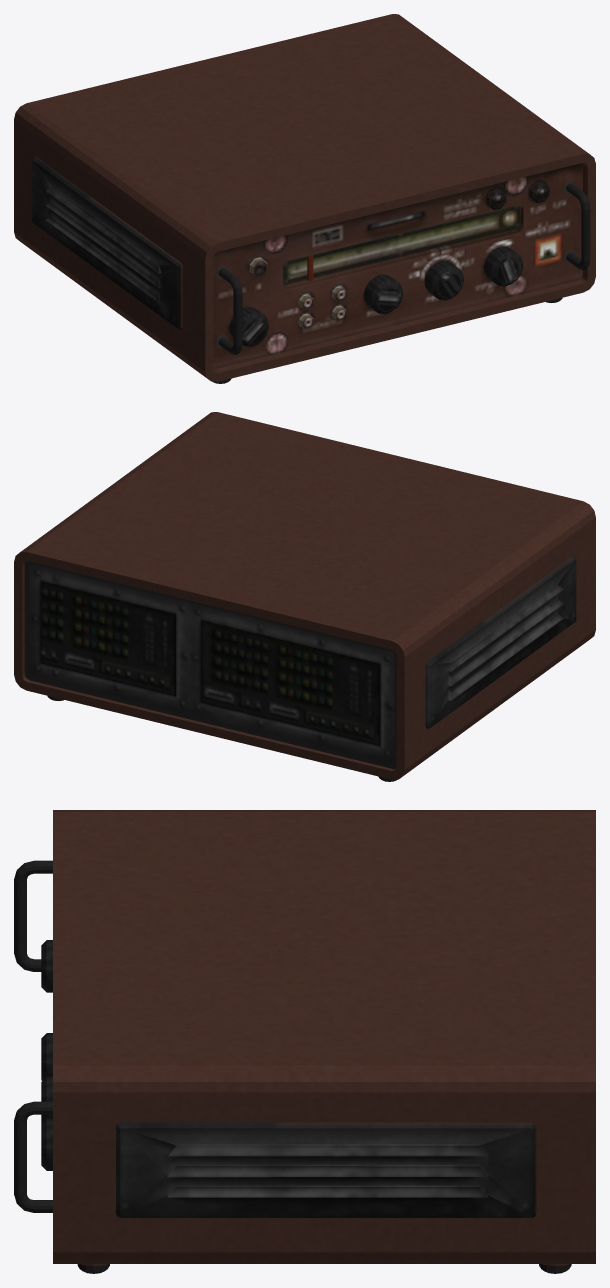
The model's file is military_radio_1.obj.
The picture shows the model from 3 angles, top to bottom: view 1: azimuth 30°, elevation 25°; view 2: azimuth 150°, elevation 25°; view 3: azimuth 270°, elevation 25°; orthographic projection. The views are drawn at different scales.
Visible parts, largest first — view 1: military_radio_1, military_radio_1_knob_3, military_radio_1_knob_4, military_radio_1_knob_2, military_radio_1_knob_1; view 2: military_radio_1; view 3: military_radio_1, military_radio_1_knob_4, military_radio_1_knob_1.
Boxes of the visible parts, x1,y1,x2,y2 form: military_radio_1: [14, 14, 595, 383]; military_radio_1_knob_3: [424, 260, 463, 300]; military_radio_1_knob_4: [484, 246, 522, 286]; military_radio_1_knob_2: [363, 274, 402, 314]; military_radio_1_knob_1: [229, 307, 268, 346]; military_radio_1: [14, 412, 595, 781]; military_radio_1: [14, 810, 595, 1273]; military_radio_1_knob_4: [41, 1118, 52, 1170]; military_radio_1_knob_1: [41, 940, 52, 992].
Bounding box in the file's own units: 0.49 × 0.175 × 0.4288.
